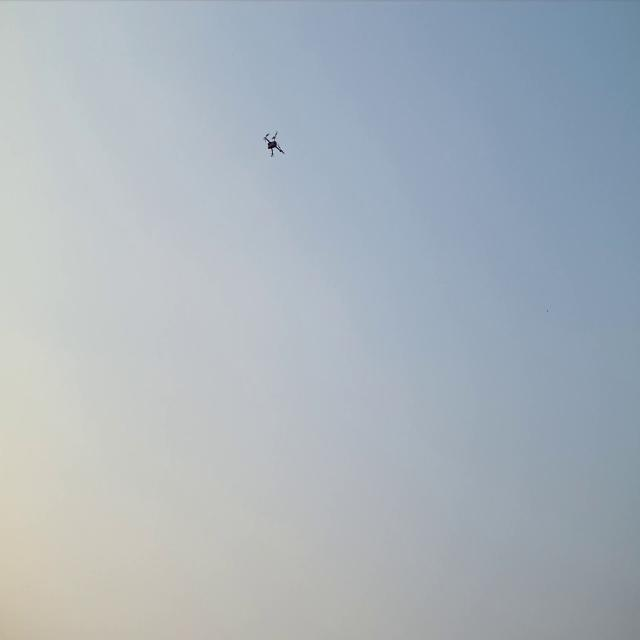UAV: (261, 125, 286, 162)
